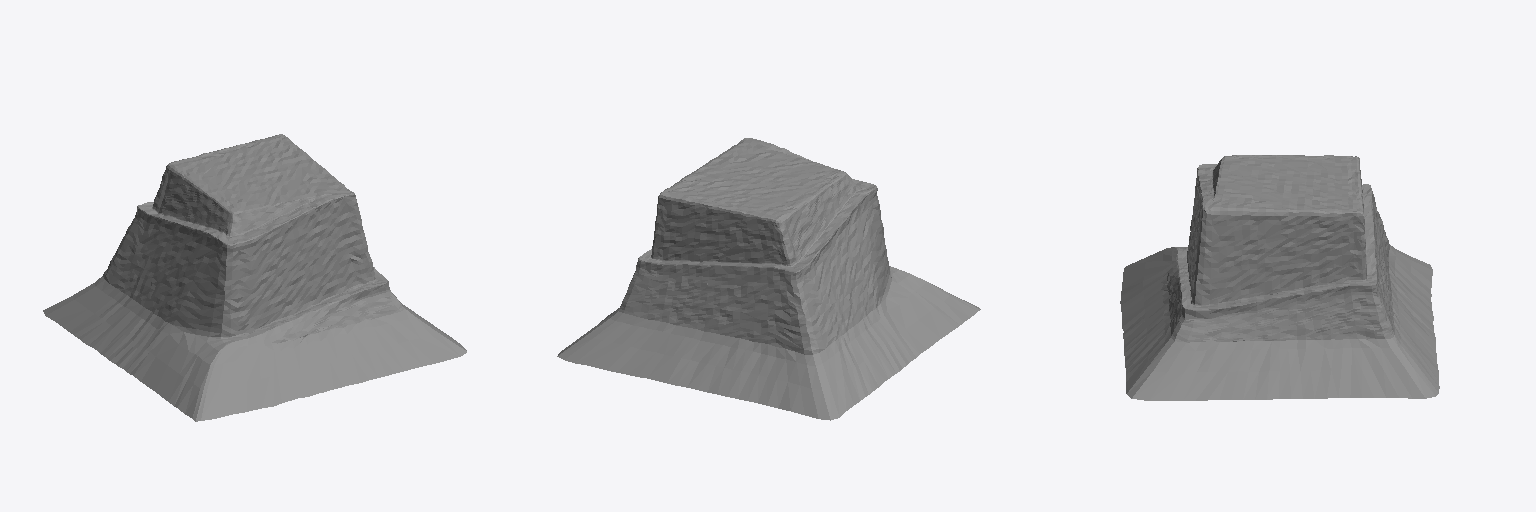
Rendered from Mountain05.obj.
The picture shows the model from 3 angles: view 1: azimuth 30°, elevation 25°; view 2: azimuth 150°, elevation 25°; view 3: azimuth 270°, elevation 25°; orthographic projection.
Visible parts, largest first — view 1: hill; view 2: hill; view 3: hill.
Part boxes in pixels (bbox=[...]): hill: bbox=[43, 134, 466, 421]; hill: bbox=[557, 138, 980, 420]; hill: bbox=[1120, 155, 1439, 400].
Bounding box in the file's own units: 3405 × 1774 × 3334.